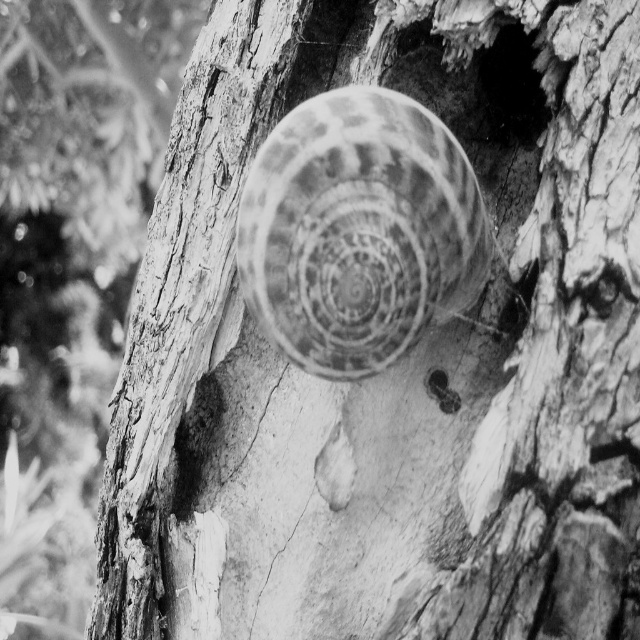Snail: (231, 81, 506, 405)
